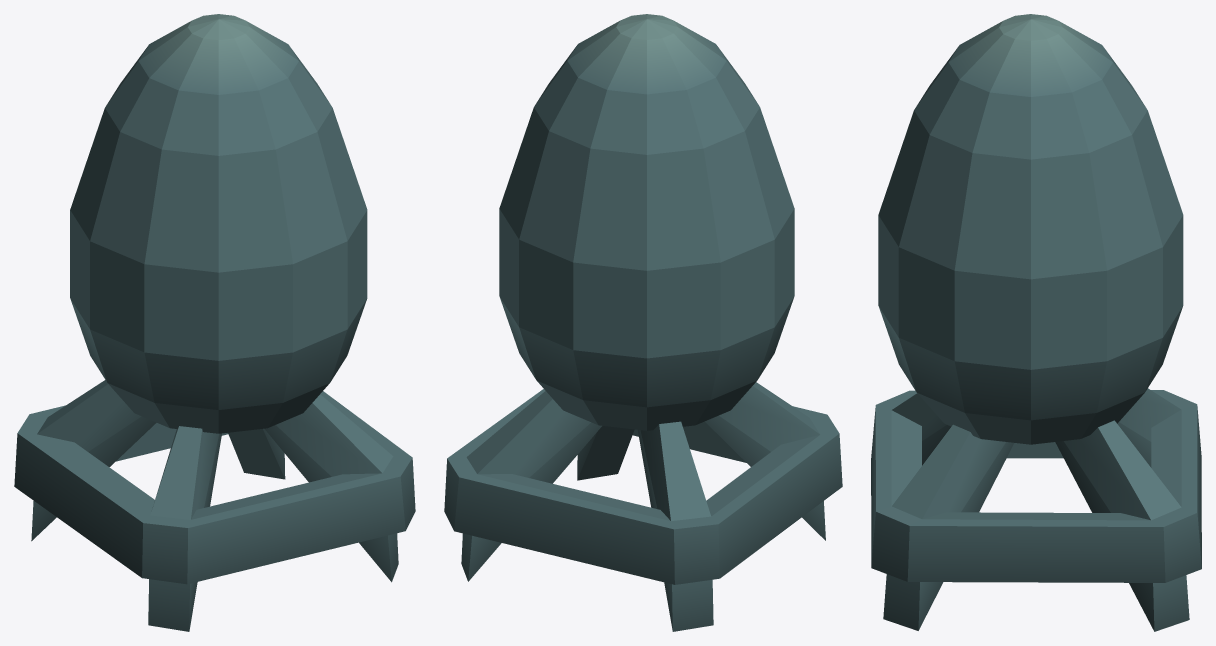
File: Tank Shell Fat.fbx
3 views of the same model, side by side, from view 1: azimuth 30°, elevation 25°; view 2: azimuth 150°, elevation 25°; view 3: azimuth 270°, elevation 25° (orthographic). The views are drawn at different scales.
Parts seen in each view (by area): view 1: Fat Tank Shell; view 2: Fat Tank Shell; view 3: Fat Tank Shell.
Boxes of the visible parts, x1=… form: Fat Tank Shell: x1=14, y1=14, x2=415, y2=631; Fat Tank Shell: x1=444, y1=14, x2=842, y2=631; Fat Tank Shell: x1=871, y1=14, x2=1201, y2=631.
Size of the model in its own units: 67.24 by 124 by 67.68.
